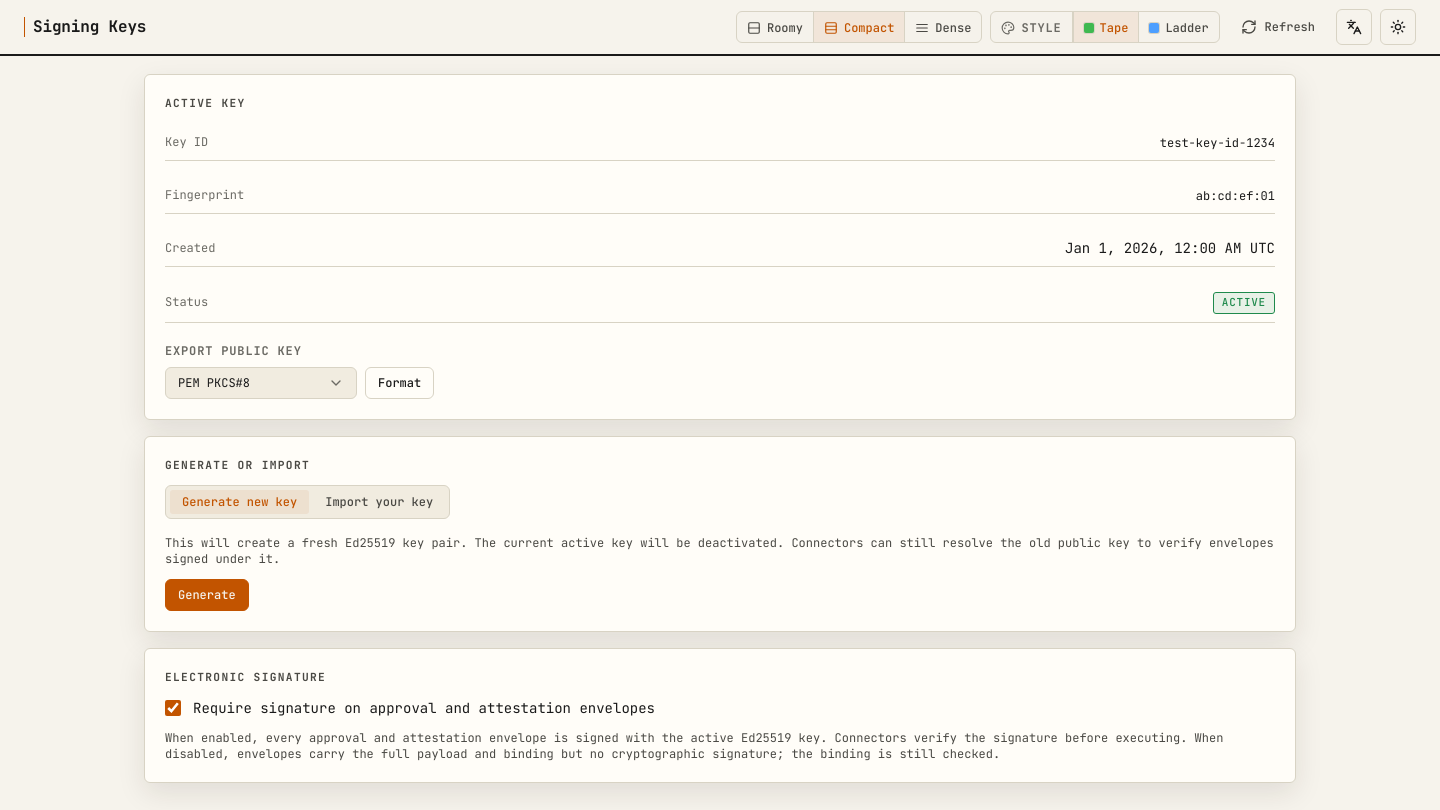
Test: SigningKeys page - import › shows validation error when importing empty key
// Switch to import mode
Click the button "Import your key": (379, 502) [313,490,445,514]
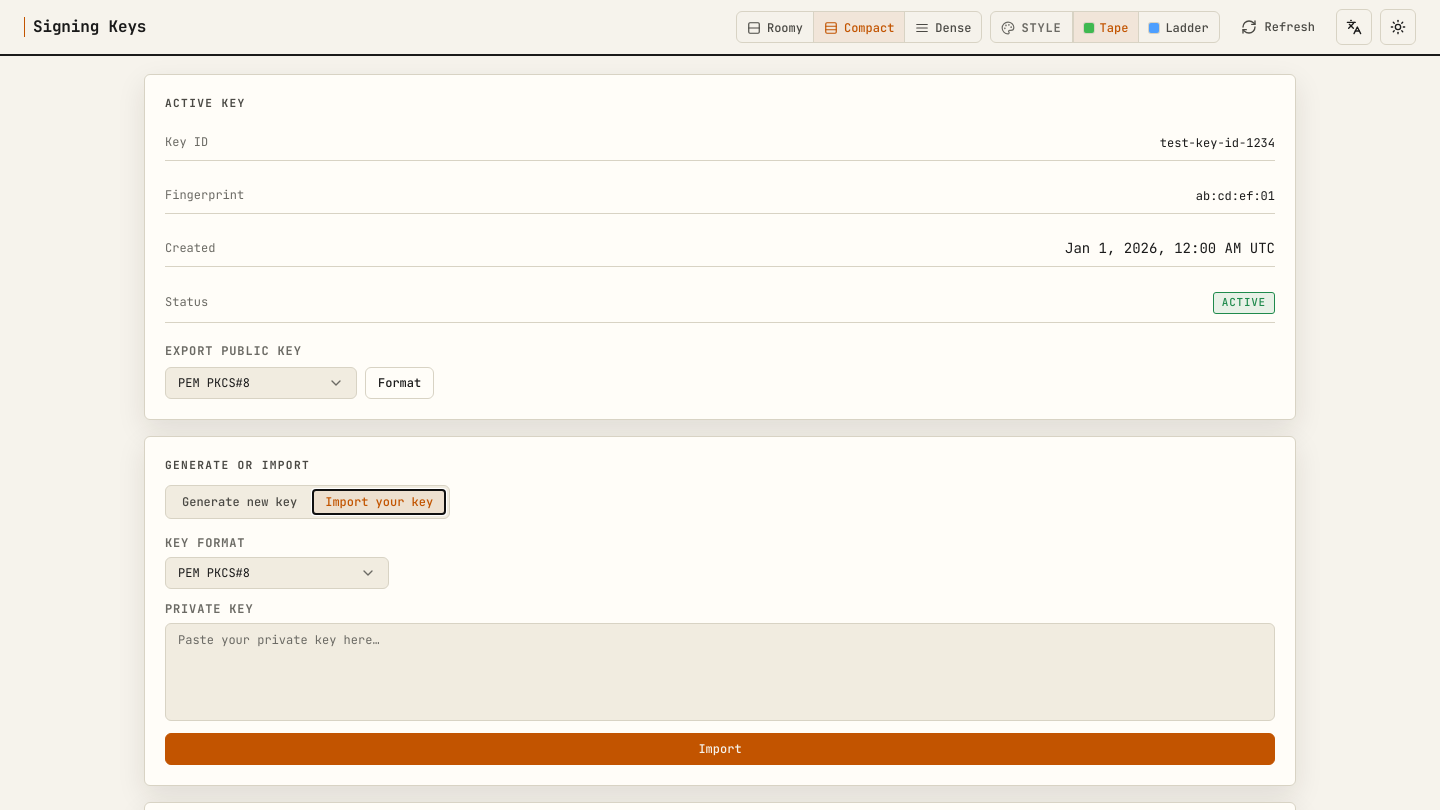
Click the button "Import": (720, 749) [165,733,1275,765]
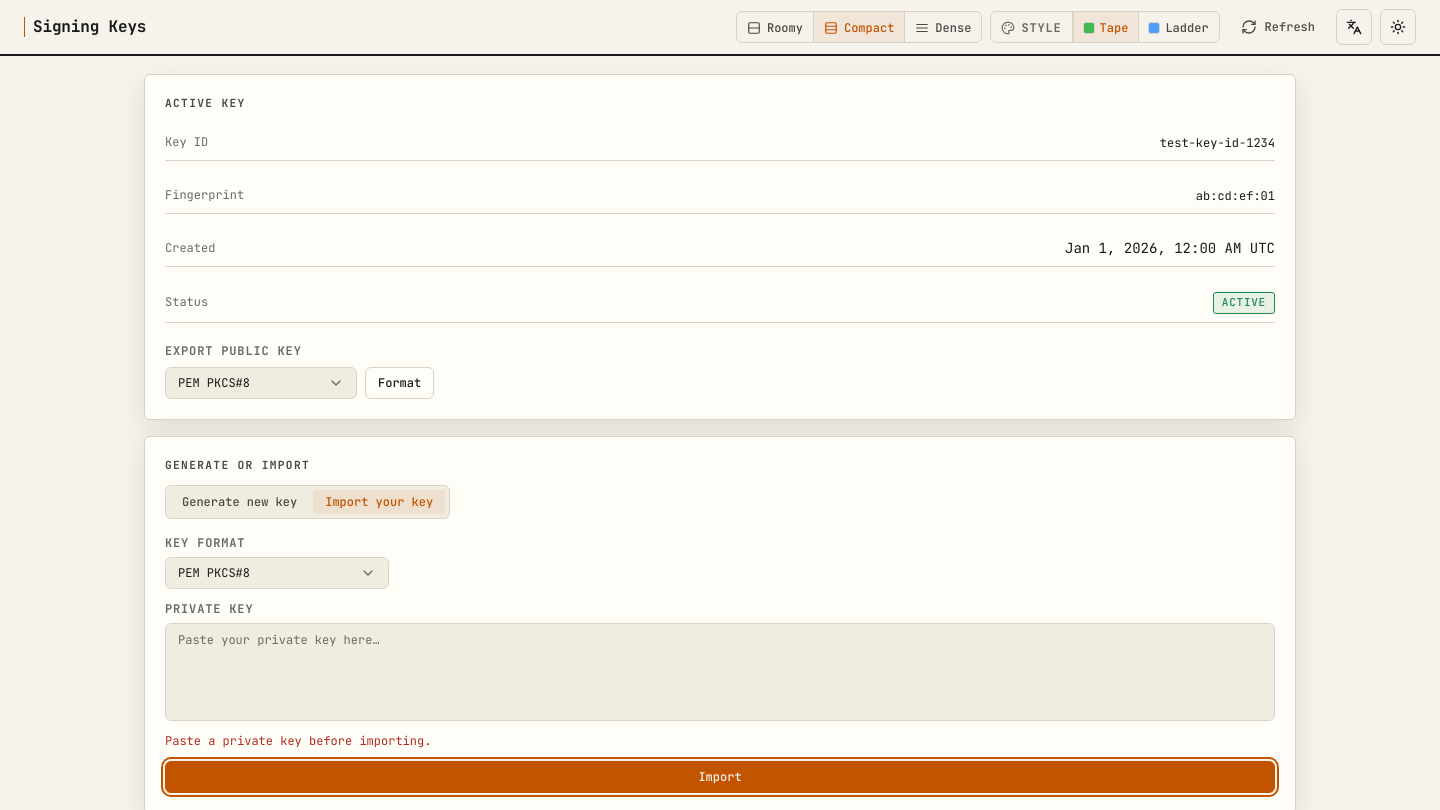
Now the text "Paste a private key before importing." is shown, box [165,733,431,749]
